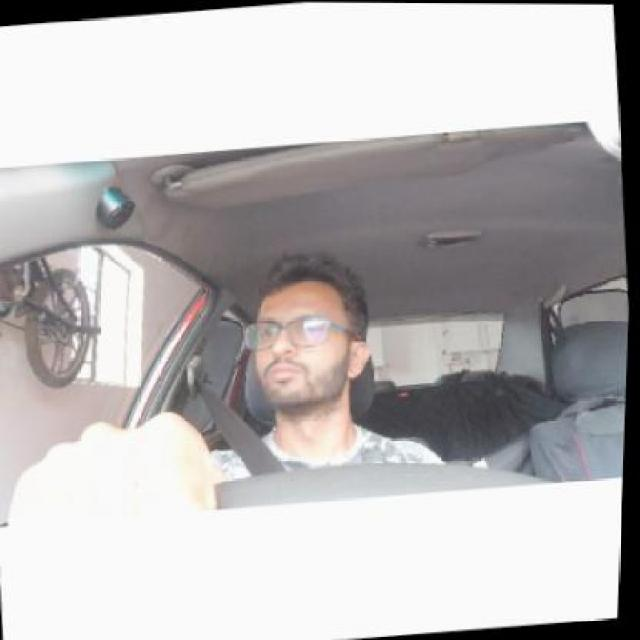person: (226, 253, 384, 430)
